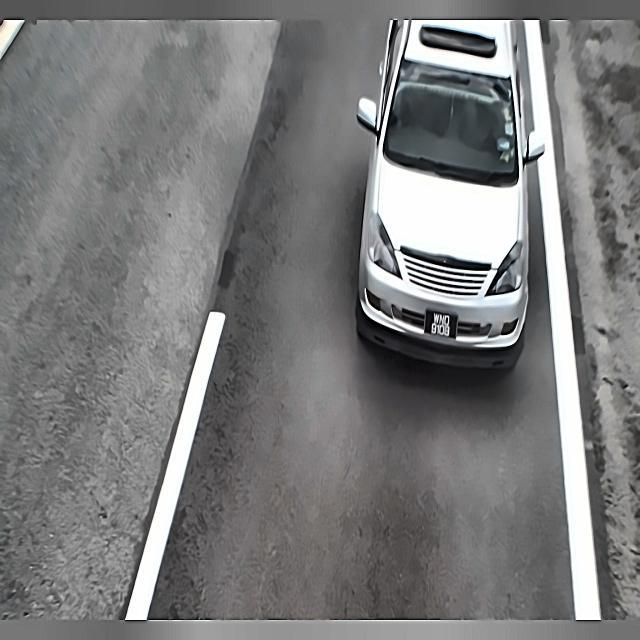car: (420, 301, 464, 348)
